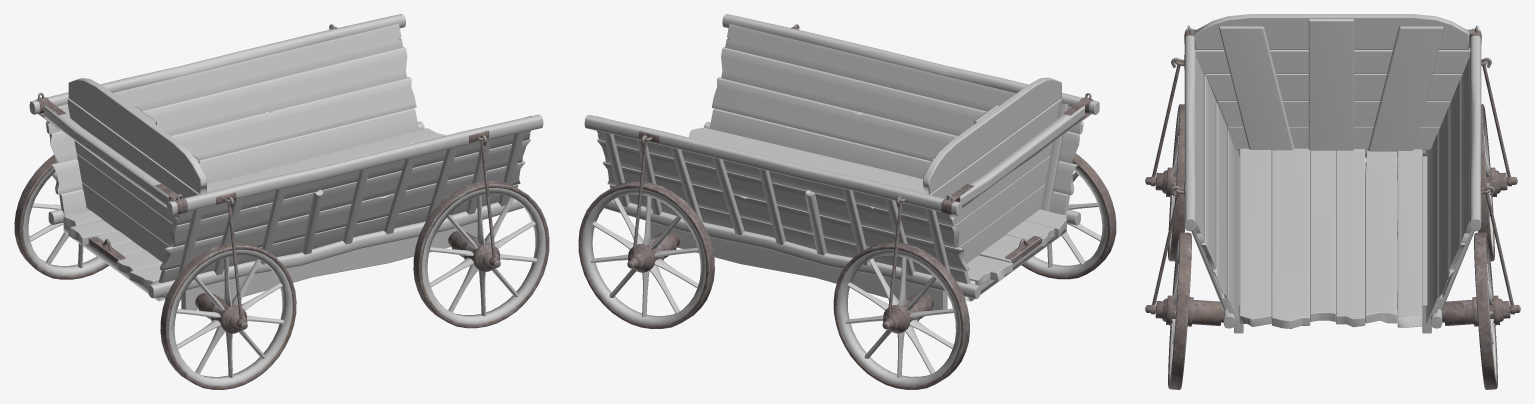
File: SM_Carriage_02.fbx
3 renders of one model, left to right at view 1: azimuth 30°, elevation 25°; view 2: azimuth 150°, elevation 25°; view 3: azimuth 270°, elevation 25°, orthographic. The views are drawn at different scales.
Visible parts, largest first — view 1: SM_Carriage_02_LOD0; view 2: SM_Carriage_02_LOD0; view 3: SM_Carriage_02_LOD0.
Part boxes in pixels (left/top/right/bottom): SM_Carriage_02_LOD0: left=14, top=14, right=549, bottom=389; SM_Carriage_02_LOD0: left=578, top=14, right=1116, bottom=389; SM_Carriage_02_LOD0: left=1145, top=14, right=1520, bottom=389.
Bounding box in the file's own units: 310 × 248 × 168.
